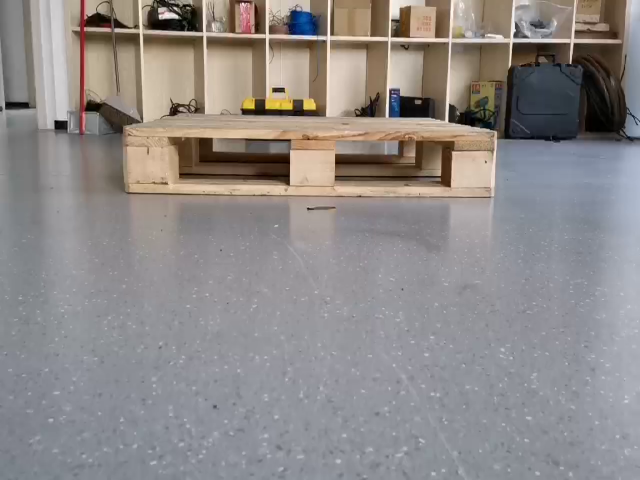block: (283, 130, 336, 197), (124, 126, 175, 194), (450, 134, 494, 200)
front: (121, 133, 495, 200)
hole pallet: (332, 141, 454, 186), (175, 138, 289, 184)
